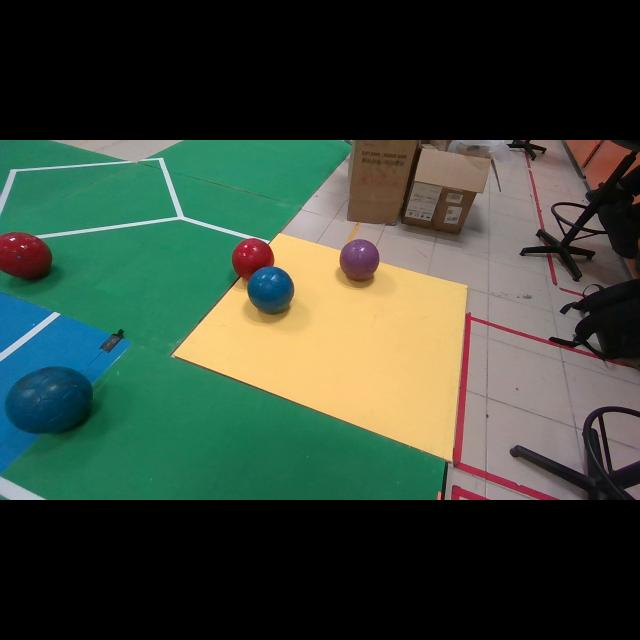B: (5, 366, 91, 434), (248, 266, 294, 314)
P: (340, 239, 380, 281)
R: (0, 231, 52, 278), (231, 238, 274, 279)
